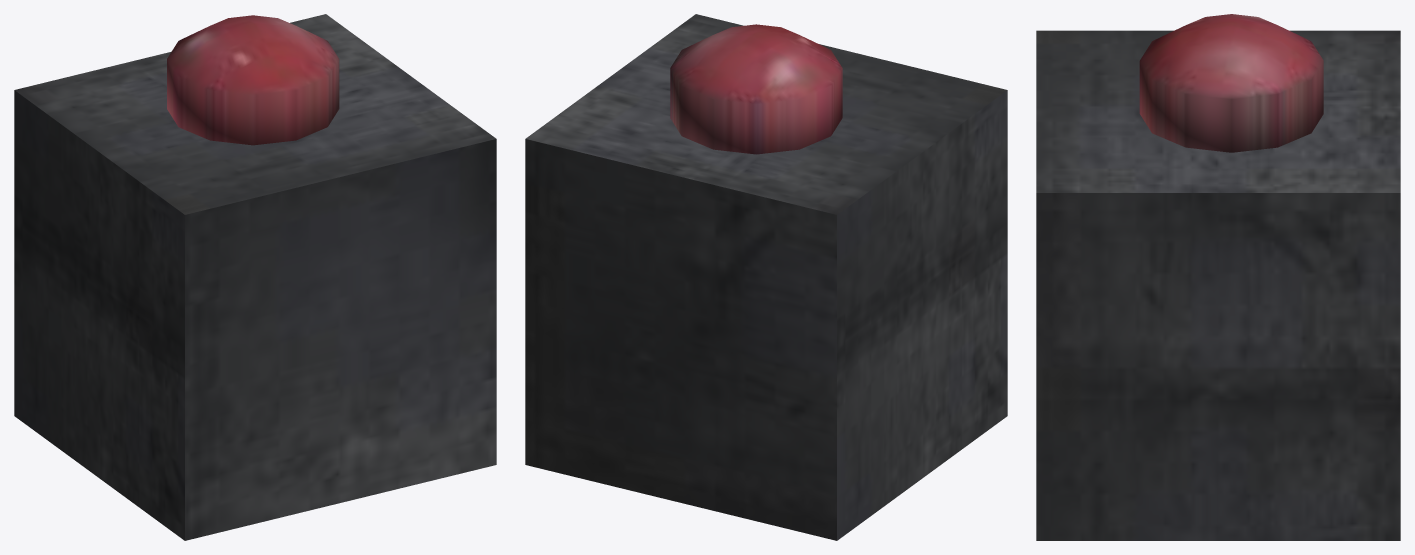
The model's file is big_red_button.FBX.
3 views of the same model, side by side, from view 1: azimuth 30°, elevation 25°; view 2: azimuth 150°, elevation 25°; view 3: azimuth 270°, elevation 25° (orthographic). The views are drawn at different scales.
Parts seen in each view (by area): view 1: button_box, button; view 2: button_box, button; view 3: button_box, button.
Part boxes in pixels (box(x1,y1,x2,y2)): button_box: box(14, 14, 496, 540); button: box(167, 15, 339, 145); button_box: box(525, 14, 1007, 540); button: box(670, 24, 842, 154); button_box: box(1036, 30, 1400, 540); button: box(1139, 14, 1323, 152).
Size of the model in its own units: 16.67 by 20.99 by 15.8.
